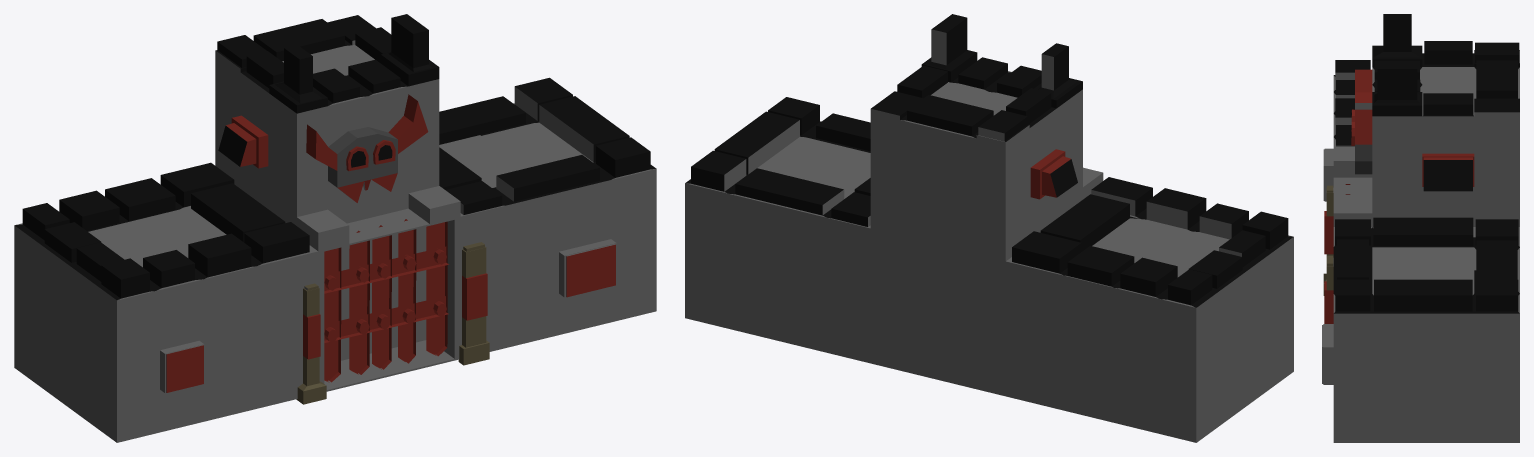
File: tower.fbx
The picture shows the model from 3 angles, left to right: view 1: azimuth 30°, elevation 25°; view 2: azimuth 150°, elevation 25°; view 3: azimuth 270°, elevation 25°; orthographic projection. The views are drawn at different scales.
Visible parts, largest first — view 1: Cylinder; view 2: Cylinder; view 3: Cylinder.
Part boxes in pixels (bbox=[...]): Cylinder: bbox=[14, 14, 656, 442]; Cylinder: bbox=[685, 14, 1293, 442]; Cylinder: bbox=[1322, 14, 1519, 442].
Size of the model in its own units: 793 by 444 by 278.
